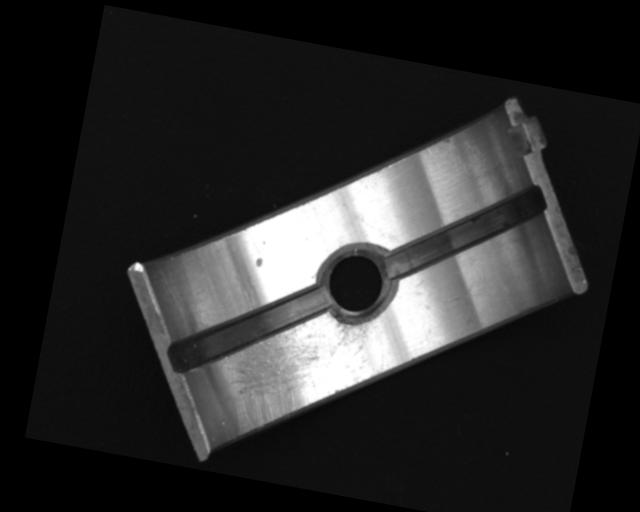bruise: (254, 256, 264, 269)
gap: (379, 160, 549, 304), (166, 262, 330, 397)
hole: (310, 240, 402, 331)
scratch: (220, 293, 378, 454)
